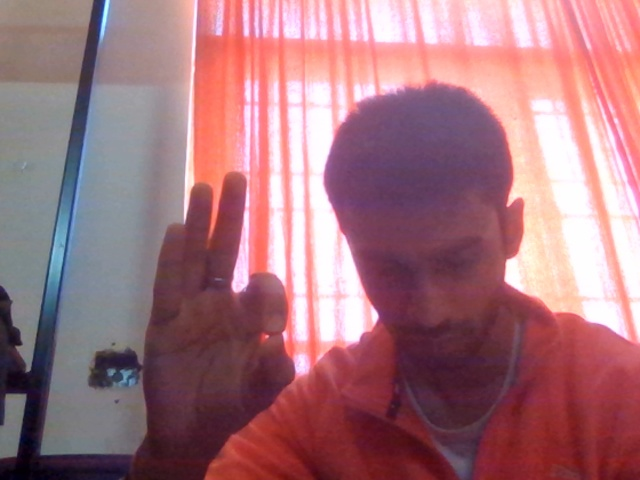F: (133, 151, 305, 480)
